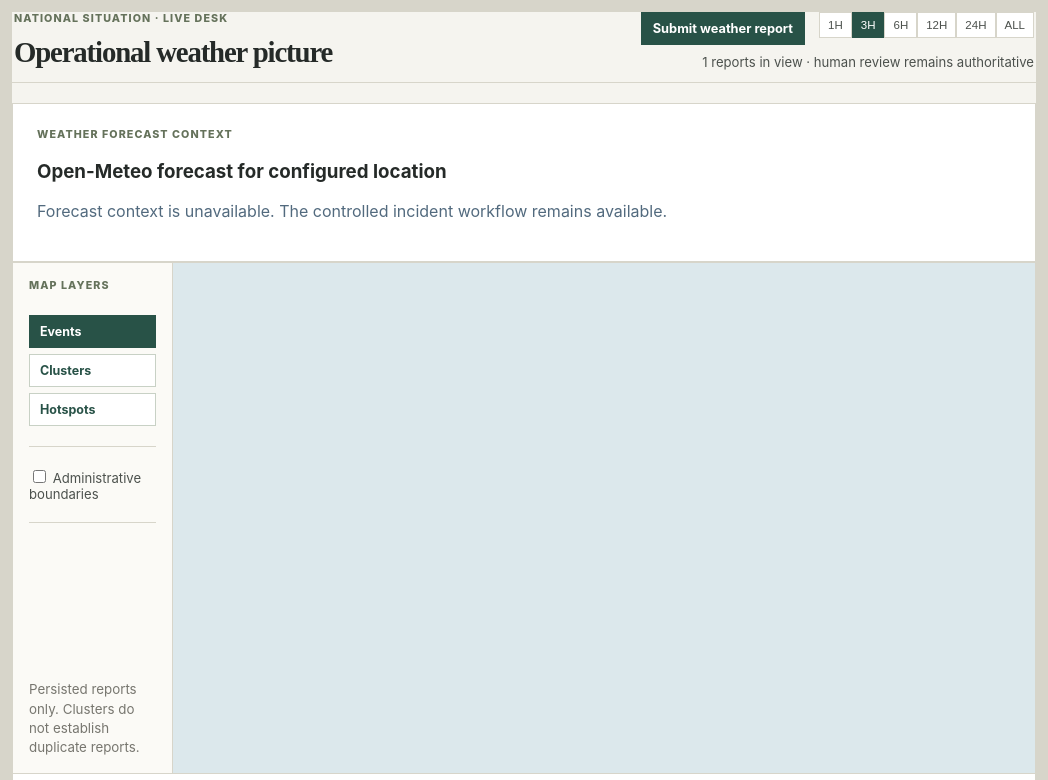
geographic layer controls use the matching PostGIS APIs
Click the button "Clusters": (92, 371) [29,354,156,387]
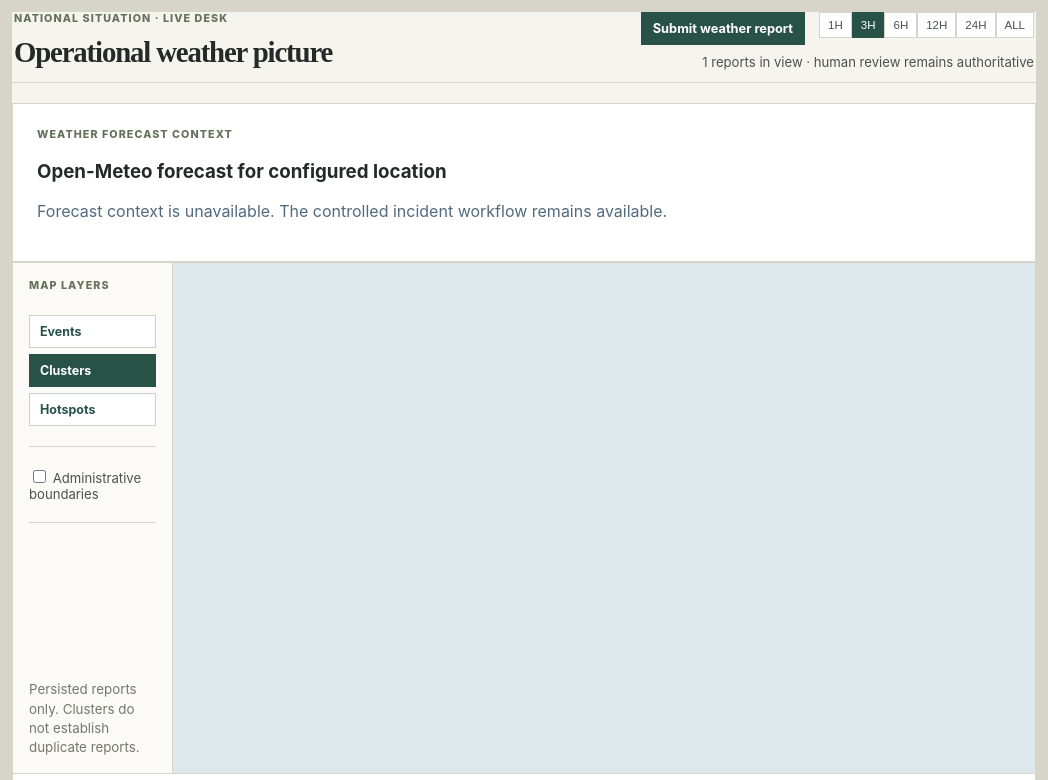
Click the button "Hotspots": (92, 410) [29,393,156,426]
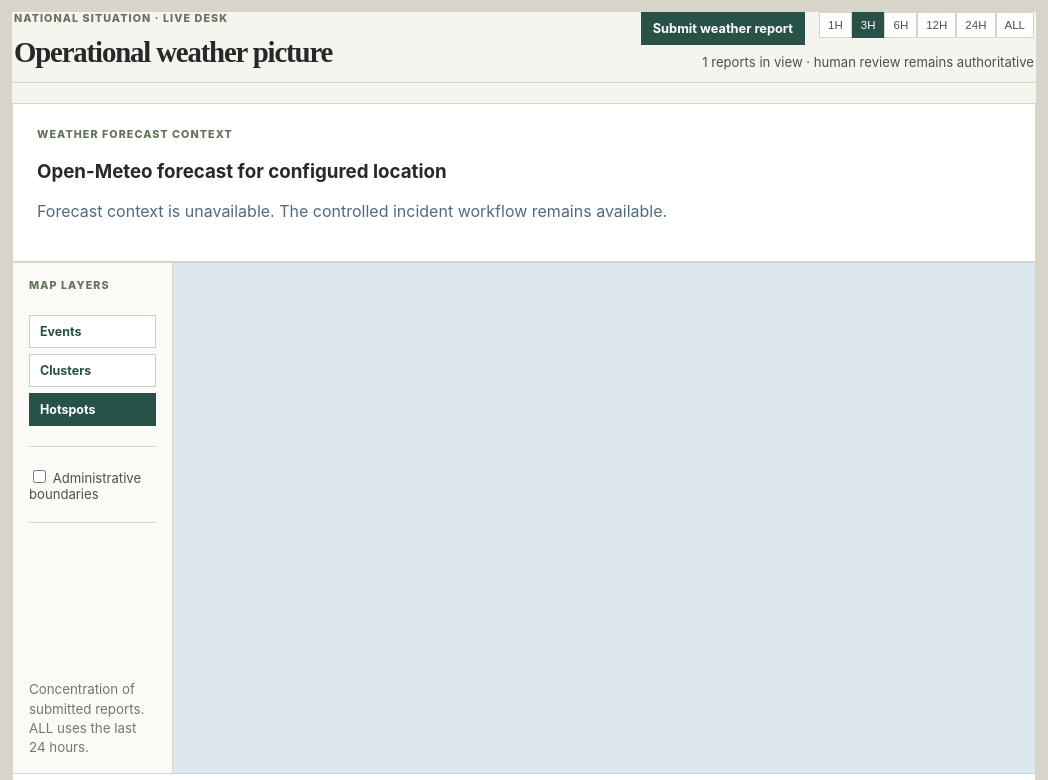
Expected: the text "Concentration of submitted reports" is shown, [29,681,144,755]
